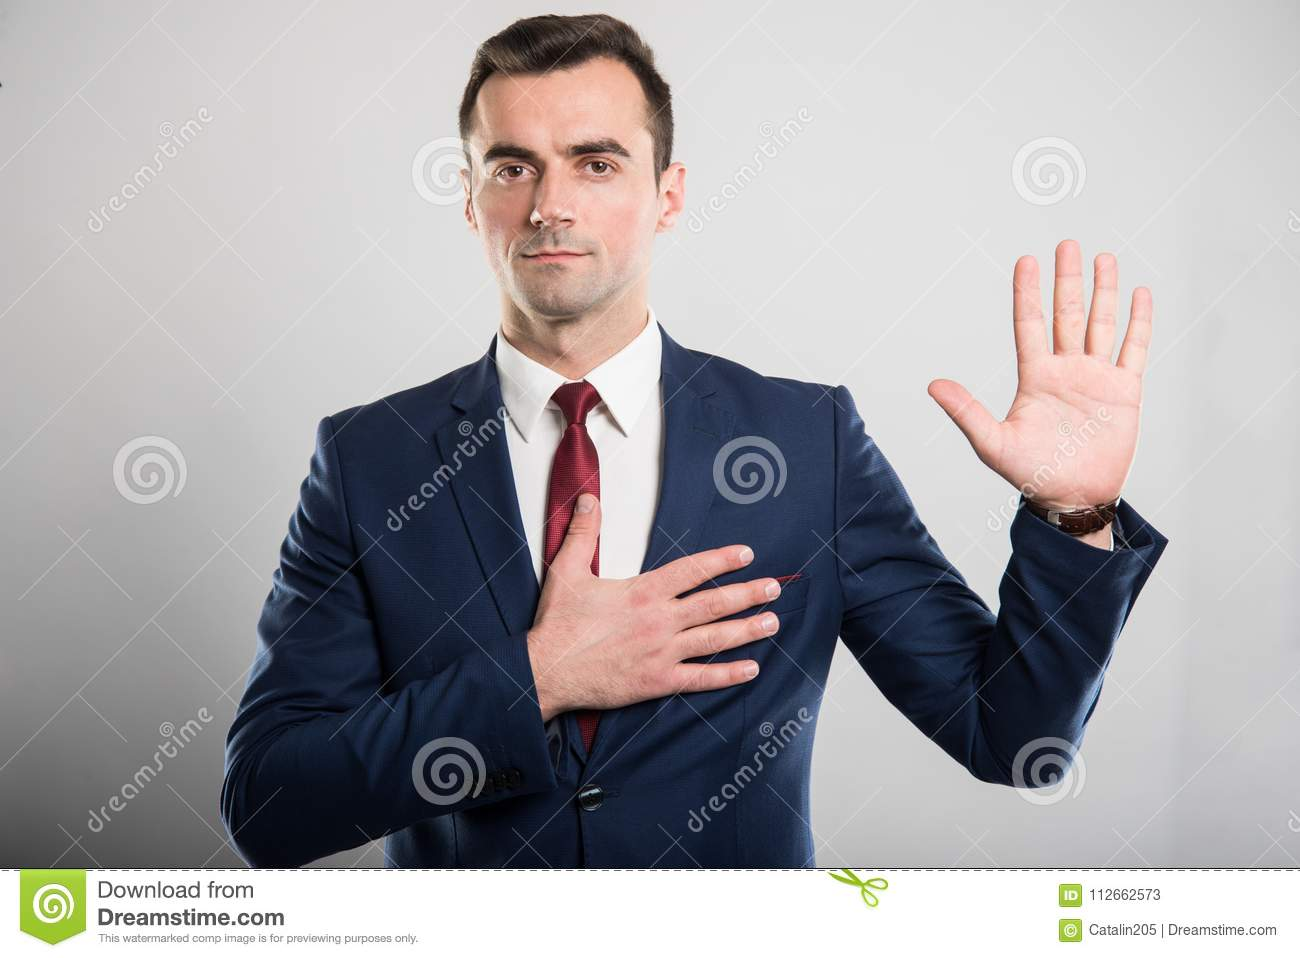open_hand: (903, 226, 1203, 522)
